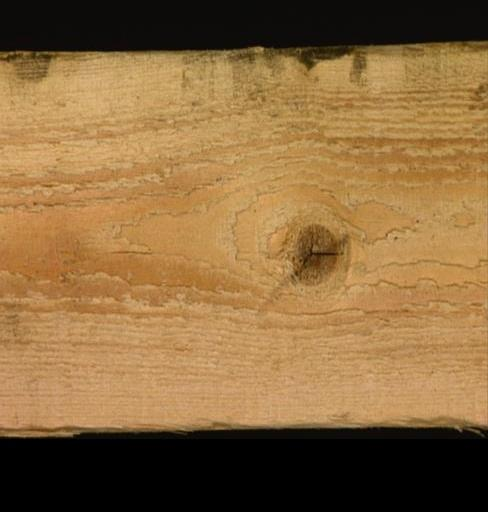sound_knot: (287, 219, 339, 287)
split: (104, 242, 161, 260)
wave: (278, 402, 486, 427), (0, 416, 258, 436)
